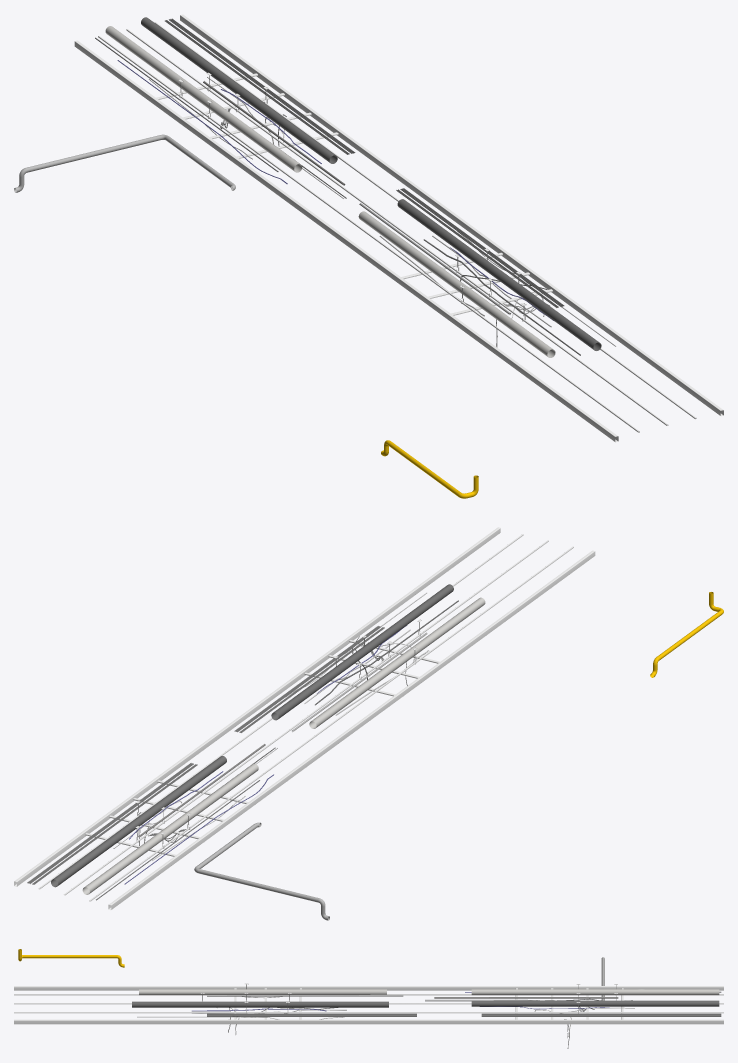
3 views of the same model, one above another, from view 1: azimuth 30°, elevation 25°; view 2: azimuth 150°, elevation 25°; view 3: azimuth 270°, elevation 25° (orthographic). The views are drawn at different scales.
Parts seen in each view (by area): view 1: SM_H_Building_FutureTech_HBlack_01_InterWall_02B; view 2: SM_H_Building_FutureTech_HBlack_01_InterWall_02B; view 3: SM_H_Building_FutureTech_HBlack_01_InterWall_02B.
Part boxes in pixels (x1,y1,x2,y2): SM_H_Building_FutureTech_HBlack_01_InterWall_02B: (14, 14, 723, 498); SM_H_Building_FutureTech_HBlack_01_InterWall_02B: (14, 527, 723, 920); SM_H_Building_FutureTech_HBlack_01_InterWall_02B: (14, 949, 723, 1048).
Size of the model in its own units: 1257 by 349 by 86.45.
